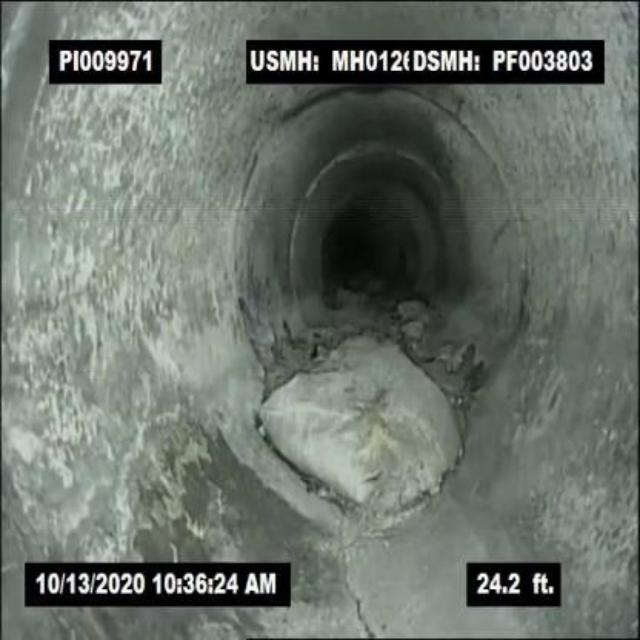Obstacle: (225, 288, 509, 535)
